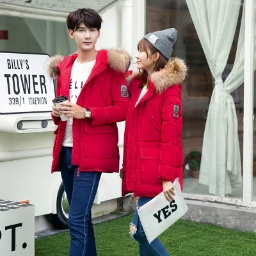face: (64, 7, 105, 52), (134, 38, 165, 70)
